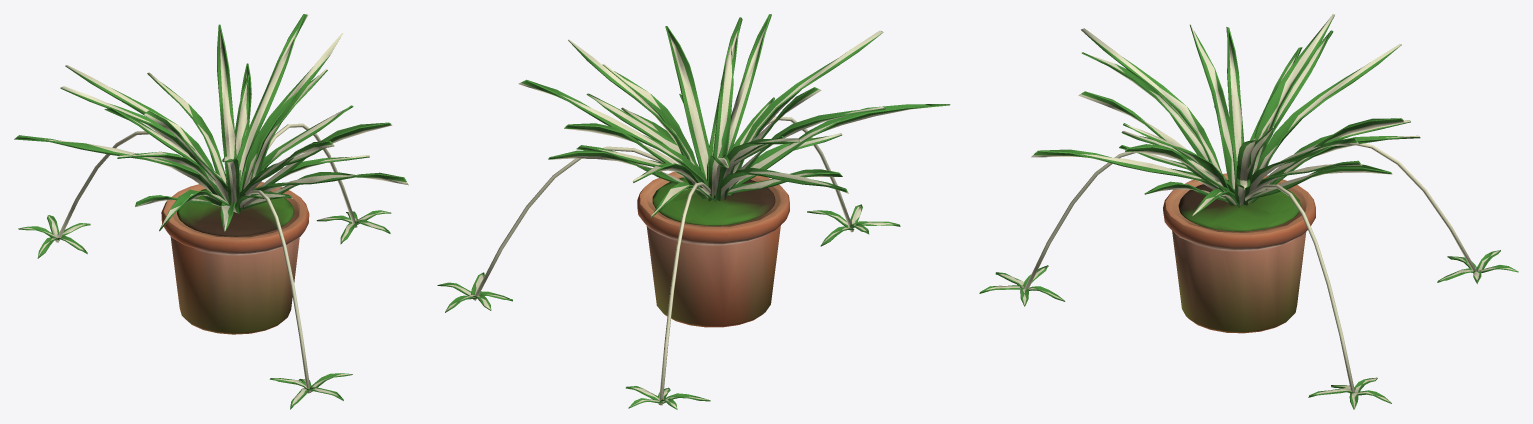
File: canopy_spider_plant.glb
3 renders of one model, left to right at view 1: azimuth 30°, elevation 25°; view 2: azimuth 150°, elevation 25°; view 3: azimuth 270°, elevation 25°, orthographic. The views are drawn at different scales.
Visible parts, largest first — view 1: canopy_spider_plant; view 2: canopy_spider_plant; view 3: canopy_spider_plant.
Boxes of the visible parts, x1,y1,x2,y2 form: canopy_spider_plant: (14,14,408,409); canopy_spider_plant: (437,14,950,409); canopy_spider_plant: (979,14,1518,409).
Size of the model in its own units: 13.46 by 7.94 by 15.68.
